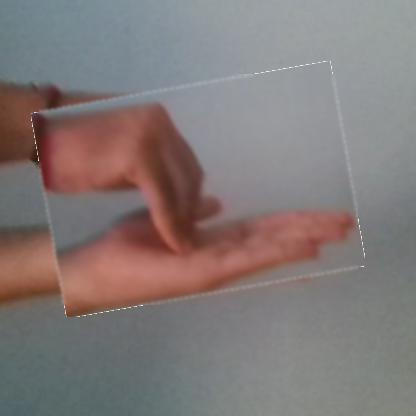Z: (39, 74, 359, 306)
